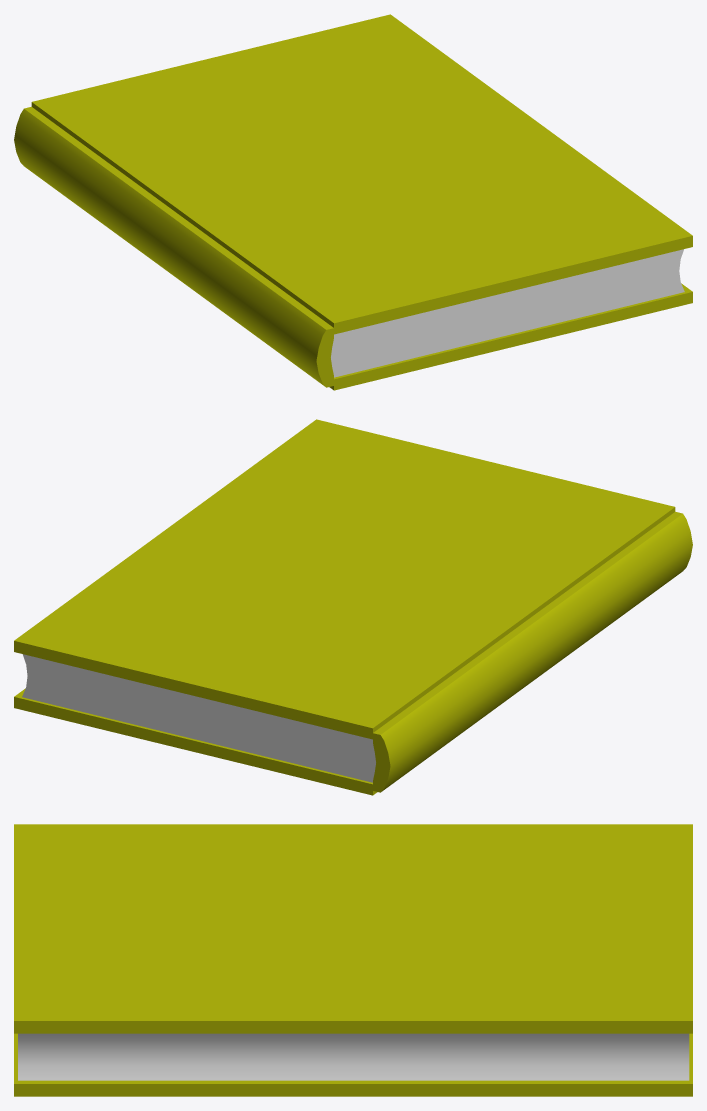
File: YellowBook.fbx
3 views of the same model, one above another, from view 1: azimuth 30°, elevation 25°; view 2: azimuth 150°, elevation 25°; view 3: azimuth 270°, elevation 25° (orthographic). The views are drawn at different scales.
Visible parts, largest first — view 1: pCube1.015, pCube1.014; view 2: pCube1.015, pCube1.014; view 3: pCube1.015, pCube1.014.
Boxes of the visible parts, x1,y1,x2,y2 form: pCube1.015: (14,14,692,390); pCube1.014: (331,249,684,377); pCube1.015: (14,419,692,795); pCube1.014: (22,654,375,782); pCube1.015: (14,824,692,1096); pCube1.014: (18,1033,689,1080).
Bounding box in the file's own units: 176 × 30 × 244.
